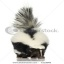skunk: (11, 8, 48, 60)
